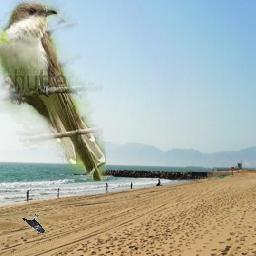Crow: (22, 215, 47, 234)
Cuckoo: (0, 1, 106, 182)
